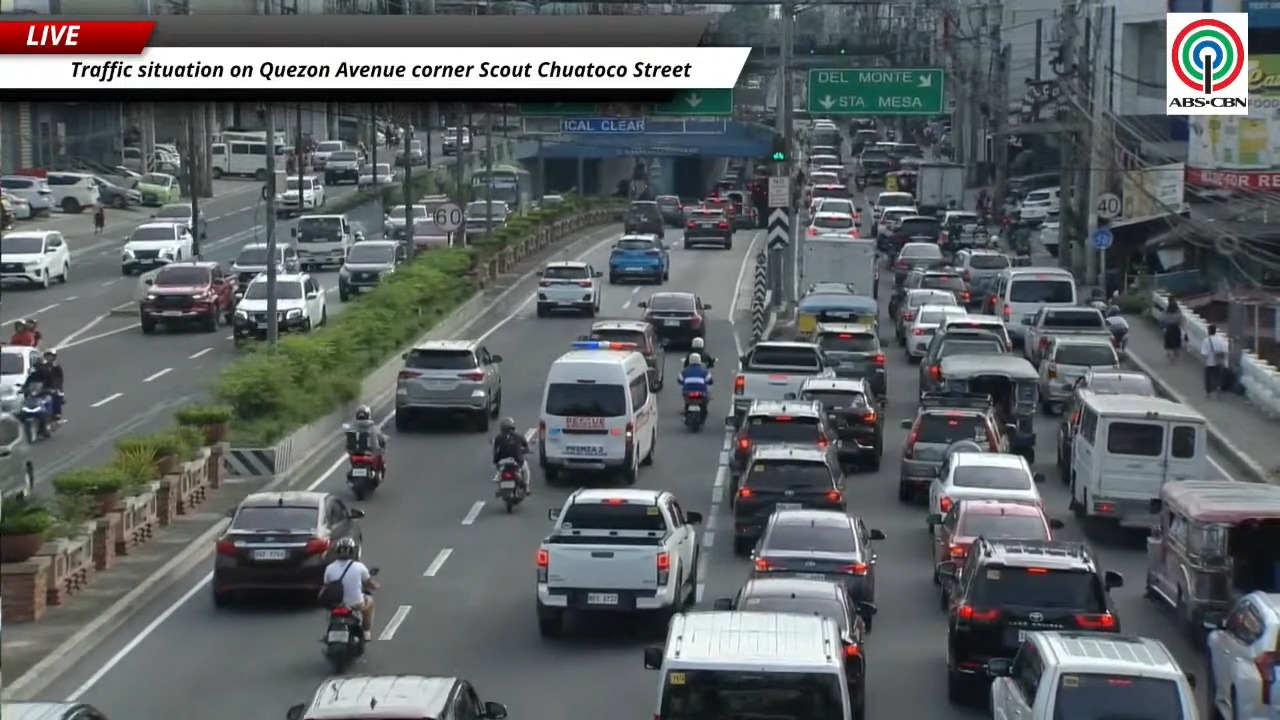bus: (471, 165, 532, 213), (210, 141, 267, 179), (211, 129, 265, 143)
car: (938, 538, 1122, 703), (714, 577, 875, 718), (986, 630, 1203, 719), (211, 492, 363, 606), (732, 444, 845, 555), (752, 509, 883, 601), (898, 393, 1006, 502), (928, 499, 1063, 584), (1057, 369, 1157, 483), (713, 574, 873, 641), (729, 399, 833, 495), (286, 674, 506, 719), (394, 341, 501, 431), (1206, 591, 1279, 717), (798, 378, 882, 470), (928, 451, 1044, 515), (139, 261, 236, 333), (1039, 335, 1119, 413), (813, 323, 886, 404), (582, 320, 665, 391), (919, 325, 1008, 391), (0, 229, 70, 287), (338, 240, 404, 301), (121, 221, 194, 276), (290, 214, 360, 270), (638, 292, 710, 346), (891, 289, 955, 346), (536, 261, 602, 316), (905, 305, 966, 362), (953, 249, 1011, 307), (274, 273, 327, 331), (608, 234, 669, 283), (0, 411, 35, 496), (0, 345, 41, 411), (940, 314, 1013, 351), (904, 268, 971, 306), (229, 243, 271, 300), (46, 171, 101, 213), (892, 242, 944, 284), (0, 175, 53, 216), (682, 208, 733, 248), (875, 206, 918, 253), (276, 176, 325, 216), (0, 701, 108, 719), (152, 203, 207, 238), (939, 210, 985, 251), (463, 200, 511, 237), (889, 214, 941, 246), (383, 204, 429, 239), (92, 176, 141, 208), (135, 172, 180, 206), (624, 200, 665, 237), (804, 169, 838, 211), (324, 149, 363, 185), (805, 212, 857, 237), (725, 190, 757, 230), (873, 191, 915, 220), (808, 183, 849, 211), (813, 198, 860, 220), (312, 140, 347, 169), (357, 163, 396, 189), (701, 197, 735, 226), (0, 191, 32, 221), (655, 195, 684, 226), (1038, 221, 1059, 257), (817, 164, 847, 187), (805, 281, 857, 294)
motorcycle: (344, 425, 383, 500), (323, 606, 365, 674), (16, 392, 58, 443), (494, 458, 526, 512), (683, 391, 706, 432), (1110, 327, 1128, 357), (854, 175, 867, 190)
truck: (537, 488, 701, 637), (726, 341, 834, 429), (1024, 307, 1112, 366), (800, 235, 878, 297), (291, 214, 353, 271), (916, 161, 965, 215)
